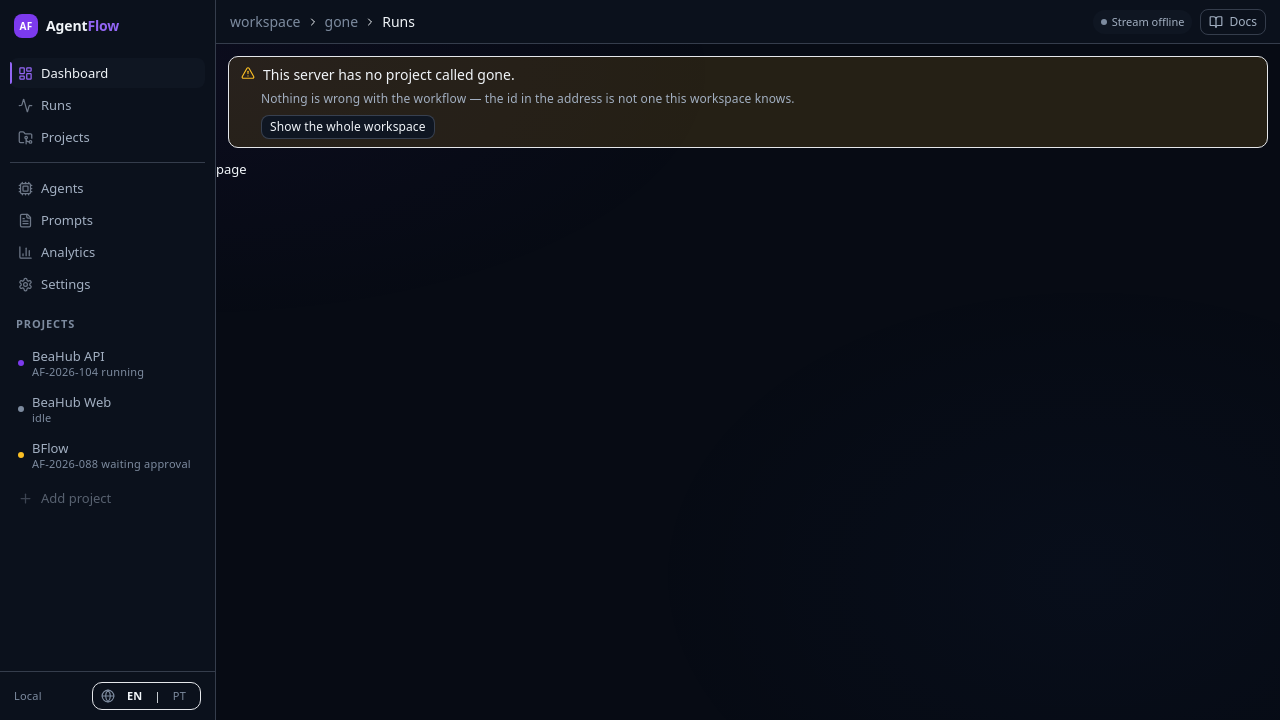
it: the workspace sidebar › says once that a project id is unknown, rather than once per query
Check: the text "This server has no project called gone." is shown, box 263,65 -> 515,85
Click the button "Show the whole workspace": (348, 127) 261,115 -> 435,139
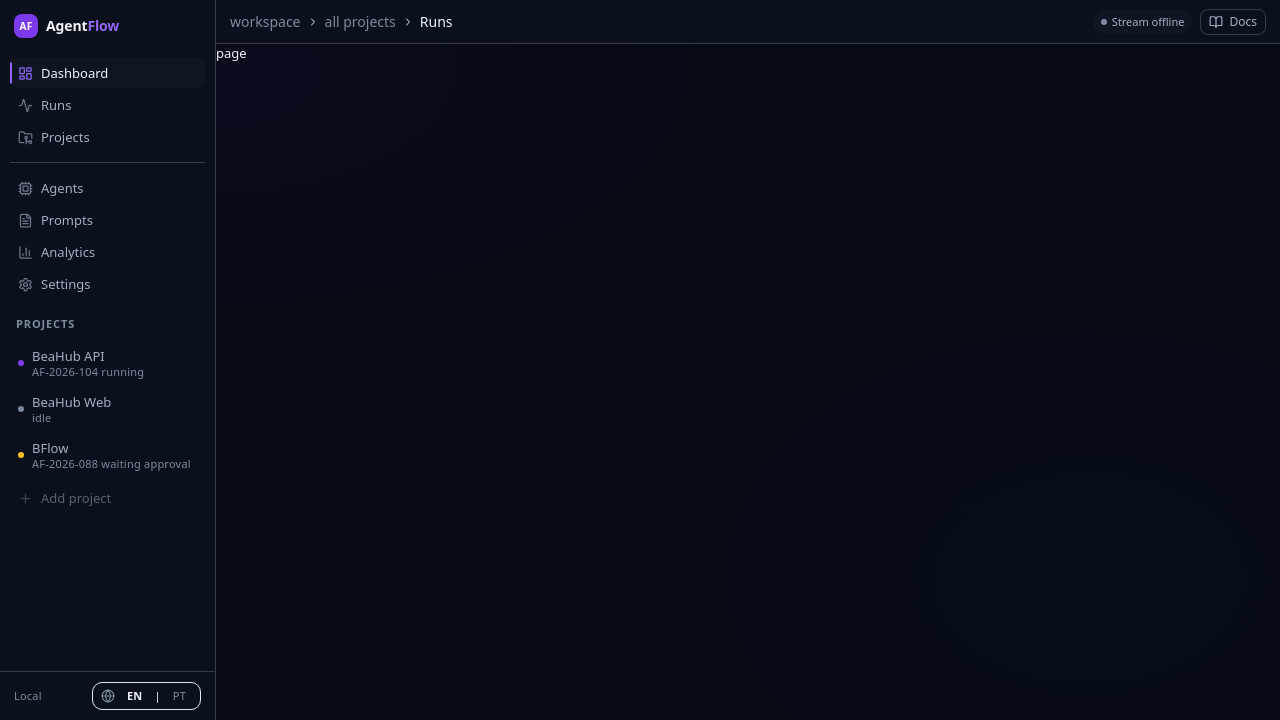
Check: the text "This server has no project called gone." is gone
